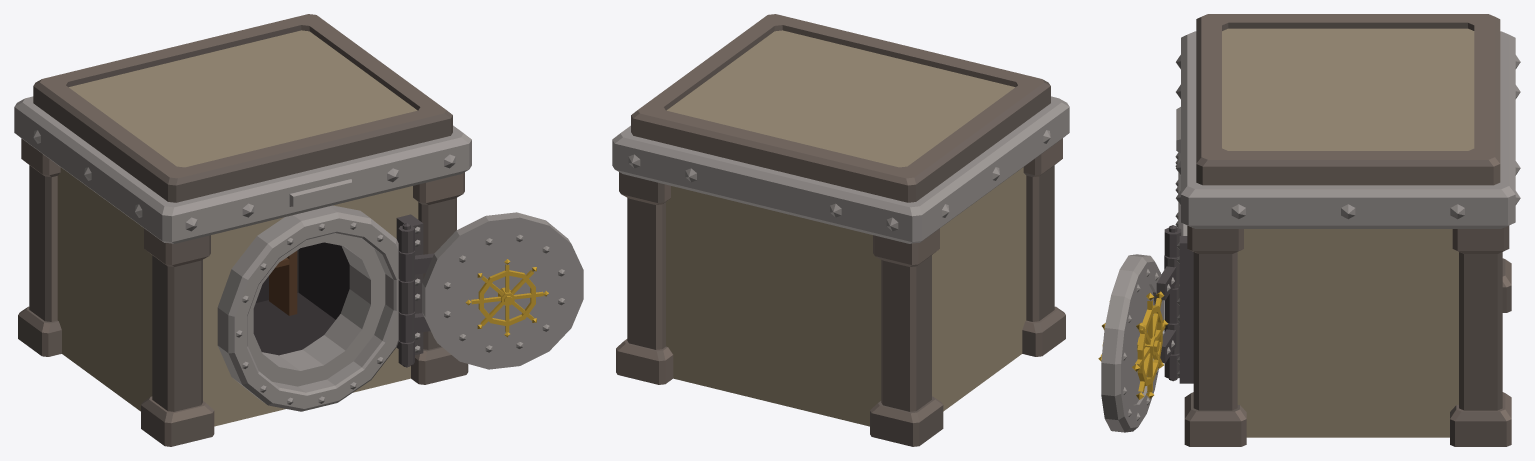
The model's file is vault-strongroom-d2c032.glb.
The picture shows the model from 3 angles, left to right: view 1: azimuth 30°, elevation 25°; view 2: azimuth 150°, elevation 25°; view 3: azimuth 270°, elevation 25°; orthographic projection. The views are drawn at different scales.
Parts seen in each view (by area): view 1: strongroom-matte, strongroom-metal, door-leaf, wheel-mesh; view 2: strongroom-matte, strongroom-metal; view 3: strongroom-matte, strongroom-metal, door-leaf, wheel-mesh.
Boxes of the visible parts, bbox=[...] form: strongroom-matte: bbox=[18, 14, 468, 446]; strongroom-metal: bbox=[14, 96, 471, 411]; door-leaf: bbox=[398, 212, 583, 369]; wheel-mesh: bbox=[465, 259, 548, 337]; strongroom-matte: bbox=[616, 14, 1065, 446]; strongroom-metal: bbox=[612, 96, 1069, 243]; strongroom-matte: bbox=[1184, 14, 1511, 446]; strongroom-metal: bbox=[1164, 31, 1520, 383]; door-leaf: bbox=[1101, 254, 1179, 432]; wheel-mesh: bbox=[1098, 291, 1167, 399].
Size of the model in its own units: 3.76 by 2.4 by 3.28.
